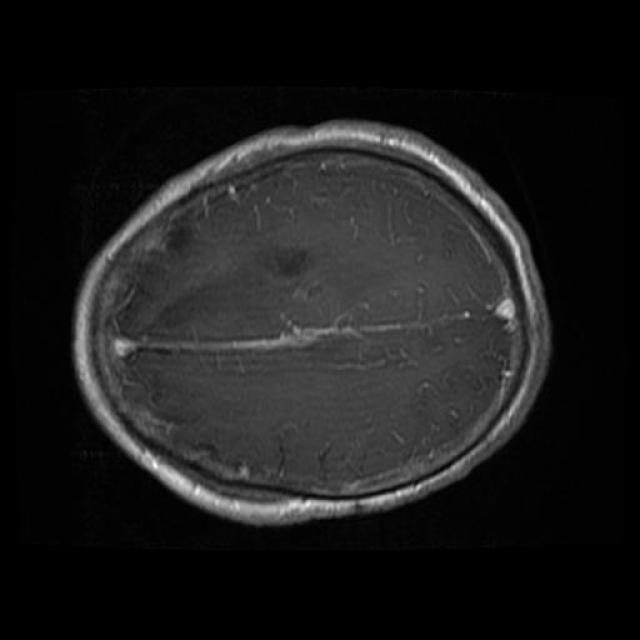Glioma: (265, 248, 307, 276)
